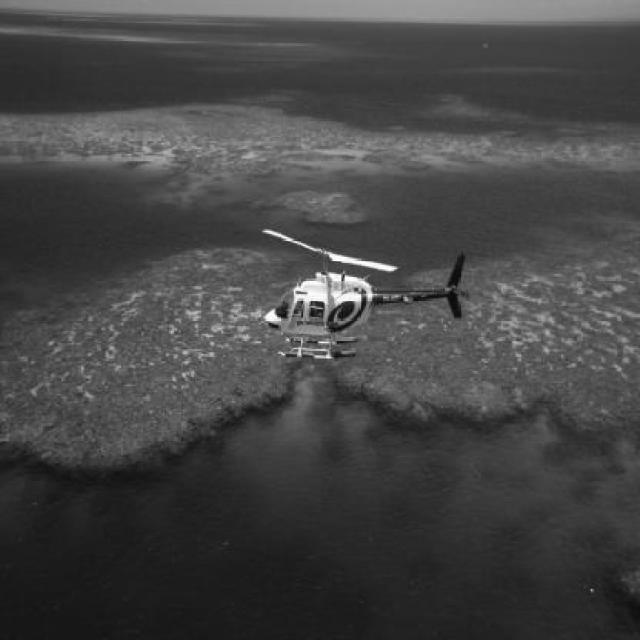helikopter: (242, 202, 480, 392)
